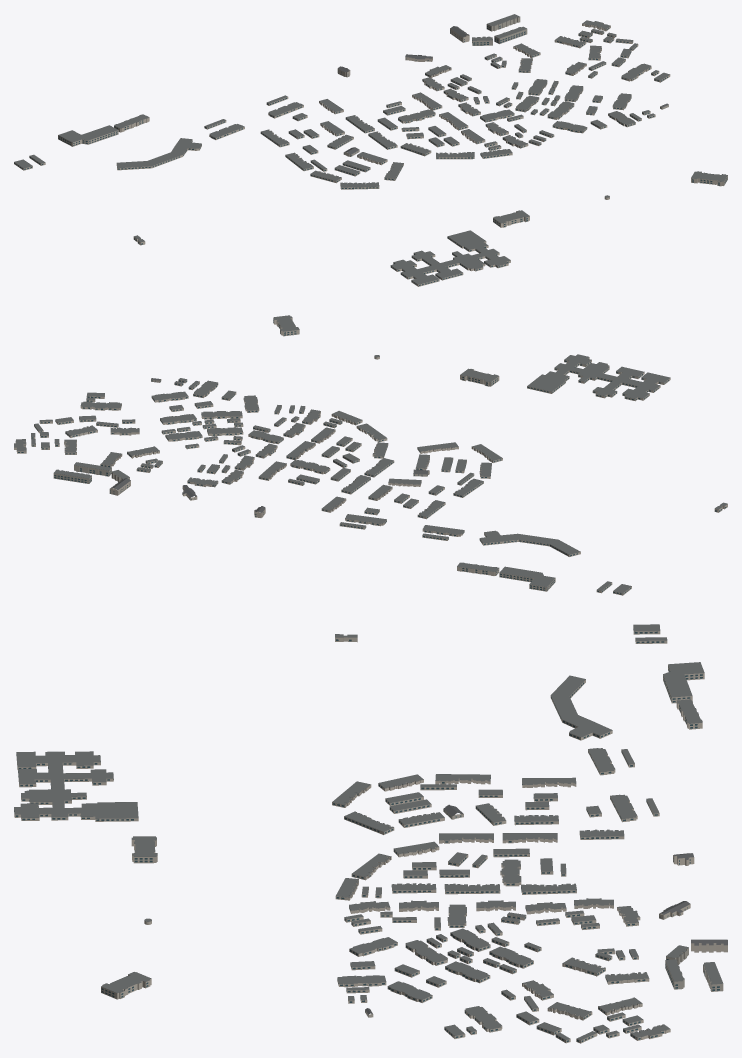
The picture shows the model from 3 angles, top to bottom: view 1: azimuth 30°, elevation 25°; view 2: azimuth 150°, elevation 25°; view 3: azimuth 270°, elevation 25°; orthographic projection. The views are drawn at different scales.
Parts seen in each view (by area): view 1: Buildings (-4, -1) Roof membrane, Buildings (-4, -1) Masonry brick, Buildings (-4, -1) Architectural tinted glass, Buildings (-4, -1) Metal coping, Buildings (-4, -1) Architectural concrete; view 2: Buildings (-4, -1) Roof membrane, Buildings (-4, -1) Masonry brick, Buildings (-4, -1) Architectural tinted glass, Buildings (-4, -1) Metal coping, Buildings (-4, -1) Architectural concrete; view 3: Buildings (-4, -1) Roof membrane, Buildings (-4, -1) Masonry brick, Buildings (-4, -1) Architectural tinted glass, Buildings (-4, -1) Metal coping, Buildings (-4, -1) Roof shingles.
Boxes of the visible parts, x1=… form: Buildings (-4, -1) Roof membrane: x1=14, y1=14, x2=727, y2=284; Buildings (-4, -1) Masonry brick: x1=14, y1=23, x2=727, y2=286; Buildings (-4, -1) Architectural tinted glass: x1=14, y1=25, x2=727, y2=285; Buildings (-4, -1) Metal coping: x1=15, y1=18, x2=727, y2=276; Buildings (-4, -1) Architectural concrete: x1=472, y1=17, x2=527, y2=45; Buildings (-4, -1) Roof membrane: x1=14, y1=315, x2=727, y2=593; Buildings (-4, -1) Masonry brick: x1=14, y1=317, x2=727, y2=595; Buildings (-4, -1) Architectural tinted glass: x1=18, y1=320, x2=726, y2=594; Buildings (-4, -1) Metal coping: x1=22, y1=315, x2=726, y2=592; Buildings (-4, -1) Architectural concrete: x1=53, y1=465, x2=129, y2=483; Buildings (-4, -1) Roof membrane: x1=14, y1=624, x2=723, y2=1040; Buildings (-4, -1) Masonry brick: x1=14, y1=627, x2=727, y2=1043; Buildings (-4, -1) Architectural tinted glass: x1=14, y1=629, x2=719, y2=1041; Buildings (-4, -1) Metal coping: x1=16, y1=624, x2=721, y2=1039; Buildings (-4, -1) Roof shingles: x1=365, y1=804, x2=727, y2=1014.
Bounding box in the file's own units: 985 × 19.69 × 720.
